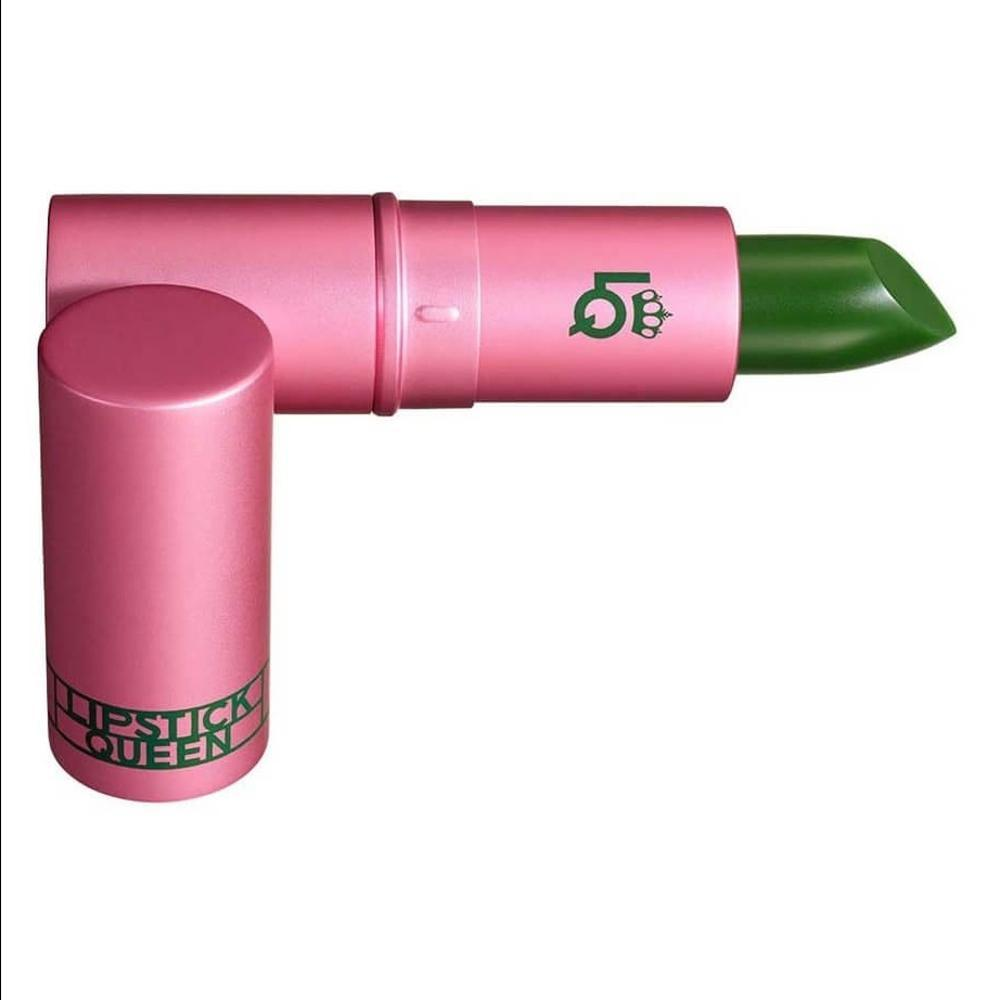lipstick: (38, 148, 998, 417)
